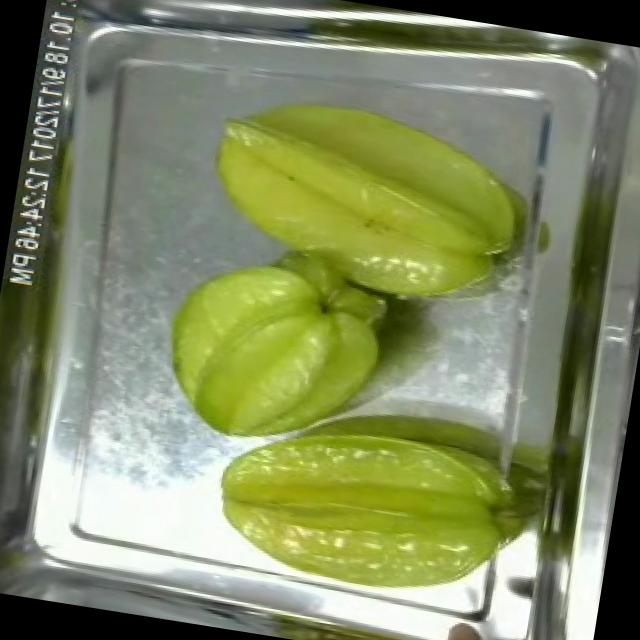fruit: (180, 66, 548, 336), (200, 387, 545, 622), (147, 235, 408, 467)
